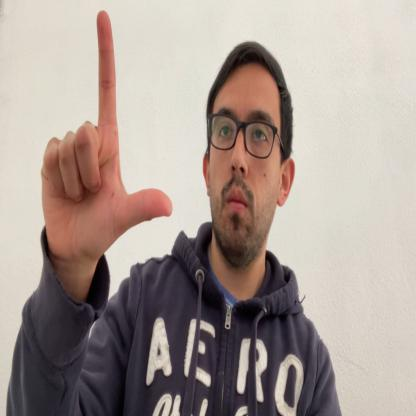L: (41, 10, 172, 264)
